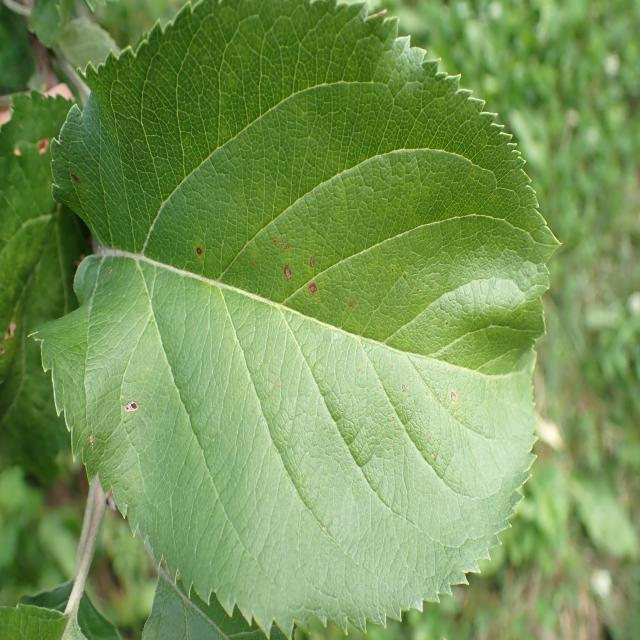frog-eye-leaf-spot: (27, 1, 564, 640)
